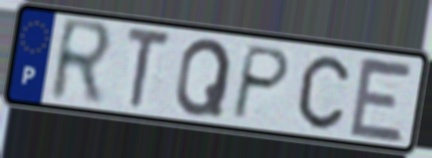C: (296, 52, 352, 132)
E: (346, 53, 417, 146)
P: (228, 42, 294, 123)
Q: (172, 36, 235, 119)
R: (47, 15, 117, 109)
T: (123, 24, 174, 113)
